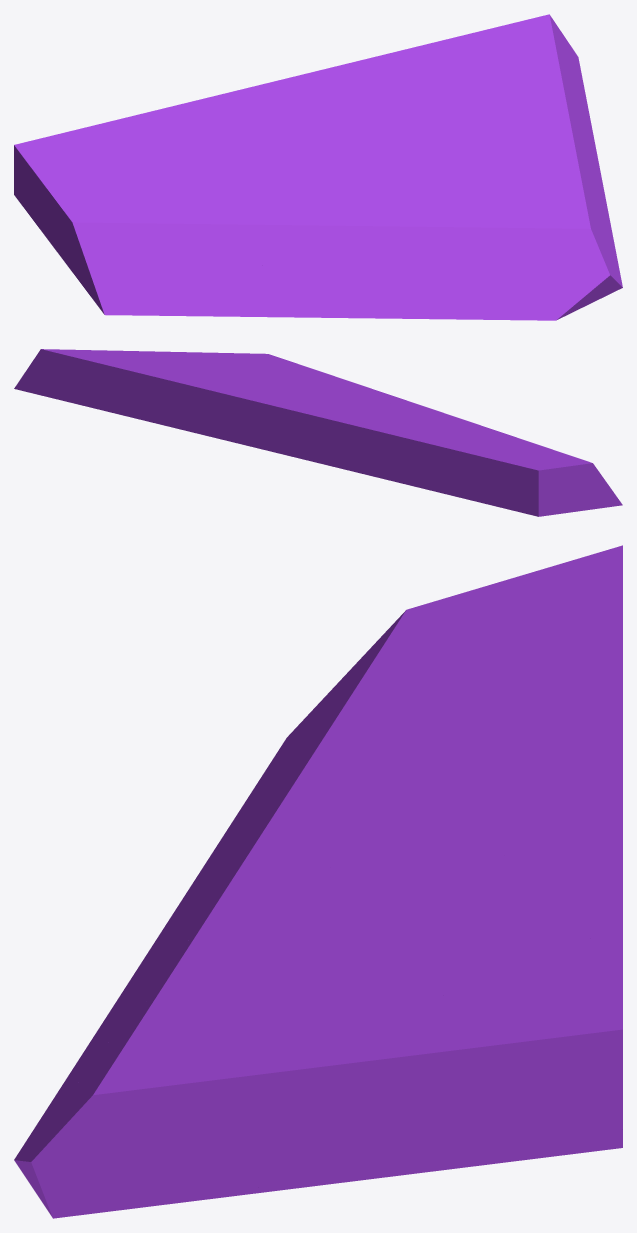
The model's file is Window_138_0_chunks.fbx.
3 views of the same model, one above another, from view 1: azimuth 30°, elevation 25°; view 2: azimuth 150°, elevation 25°; view 3: azimuth 270°, elevation 25° (orthographic). The views are drawn at different scales.
Parts seen in each view (by area): view 1: Window_138_0_9, Window_138_0_0, Window_138_0_10, Window_138_0_8, Window_138_0_6, Window_138_0_3, Window_138_0_7, Window_138_0_19, Window_138_0_17, Window_138_0_5, Window_138_0_18, Window_138_0_2 (+7 smaller); view 2: Window_138_0_9, Window_138_0_8, Window_138_0_19, Window_138_0_18, Window_138_0_0, Window_138_0_6, Window_138_0_5, Window_138_0_21, Window_138_0_17, Window_138_0_13, Window_138_0_20; view 3: Window_138_0_9, Window_138_0_0, Window_138_0_17, Window_138_0_16, Window_138_0_8, Window_138_0_6, Window_138_0_19, Window_138_0_15, Window_138_0_5, Window_138_0_18, Window_138_0_21, Window_138_0_10 (+7 smaller).
Part boxes in pixels (x1,y1,x2,y2): Window_138_0_9: (14, 109, 232, 315); Window_138_0_0: (349, 97, 597, 243); Window_138_0_10: (204, 216, 450, 319); Window_138_0_8: (159, 66, 351, 157); Window_138_0_6: (223, 135, 353, 227); Window_138_0_3: (468, 222, 620, 300); Window_138_0_7: (154, 211, 305, 316); Window_138_0_19: (435, 14, 573, 104); Window_138_0_17: (532, 50, 591, 177); Window_138_0_5: (438, 92, 535, 180); Window_138_0_18: (337, 46, 420, 124); Window_138_0_2: (456, 274, 619, 320); Window_138_0_9: (404, 427, 622, 516); Window_138_0_8: (238, 396, 418, 486); Window_138_0_19: (18, 349, 176, 422); Window_138_0_18: (154, 379, 266, 447); Window_138_0_0: (242, 353, 384, 401); Window_138_0_6: (312, 398, 476, 428); Window_138_0_5: (145, 357, 256, 380); Window_138_0_21: (147, 364, 244, 382); Window_138_0_17: (82, 350, 217, 360); Window_138_0_13: (351, 386, 422, 408); Window_138_0_20: (177, 364, 259, 384); Window_138_0_9: (258, 545, 622, 782); Window_138_0_0: (73, 853, 541, 1119); Window_138_0_17: (235, 1023, 611, 1133); Window_138_0_16: (49, 1065, 273, 1218); Window_138_0_8: (451, 676, 622, 859); Window_138_0_6: (262, 742, 472, 869); Window_138_0_19: (435, 926, 622, 1129); Window_138_0_15: (257, 1119, 622, 1193); Window_138_0_5: (238, 940, 448, 1037); Window_138_0_18: (441, 837, 622, 922); Window_138_0_21: (437, 910, 622, 997); Window_138_0_10: (78, 830, 275, 1060).
Size of the model in its own units: 1188 by 297 by 599.
